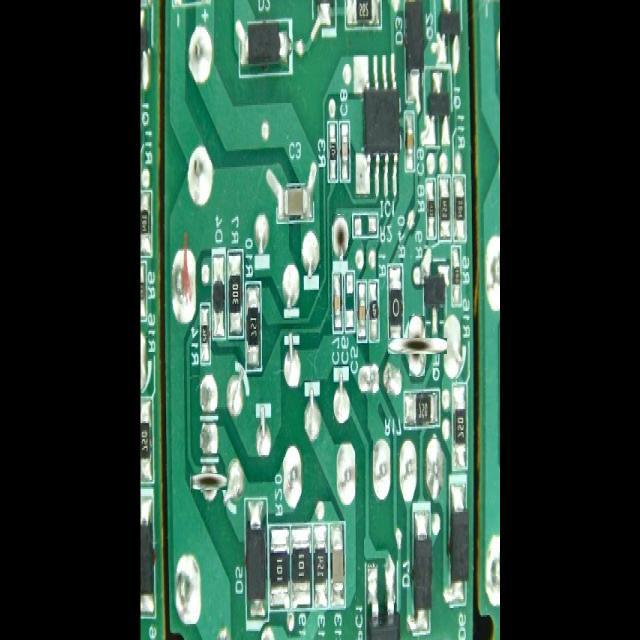damged: (398, 327, 436, 365), (195, 468, 223, 495), (332, 214, 348, 256)
